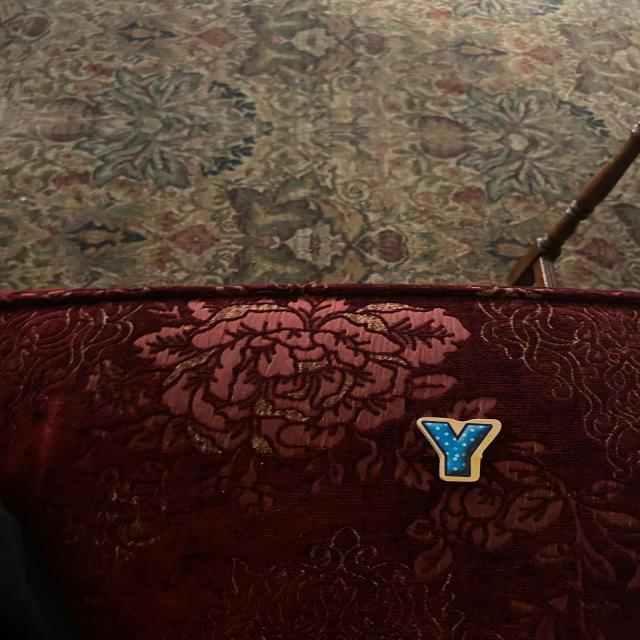Y: (417, 417, 501, 481)
